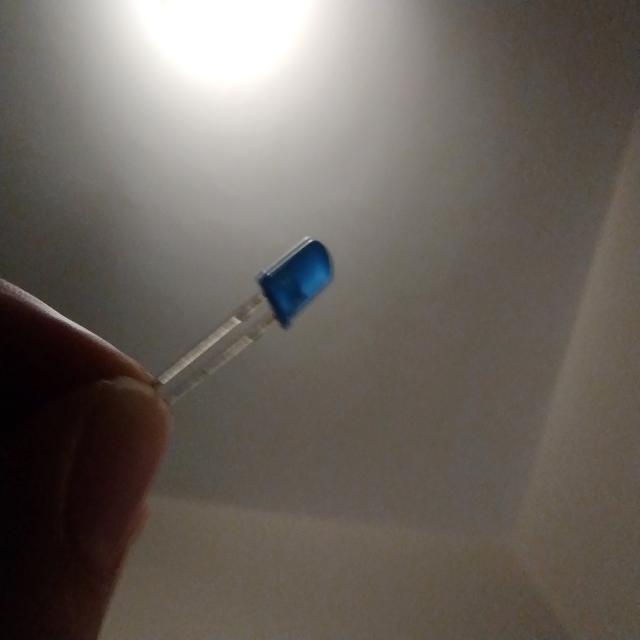blue_led: (255, 234, 334, 331)
